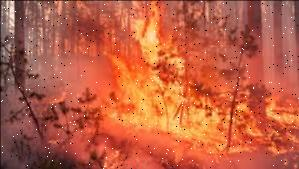fire: (100, 2, 299, 153)
